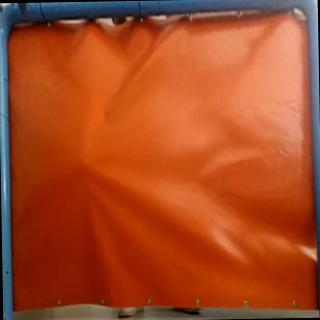Hit-hRxx: (76, 154, 92, 170)
